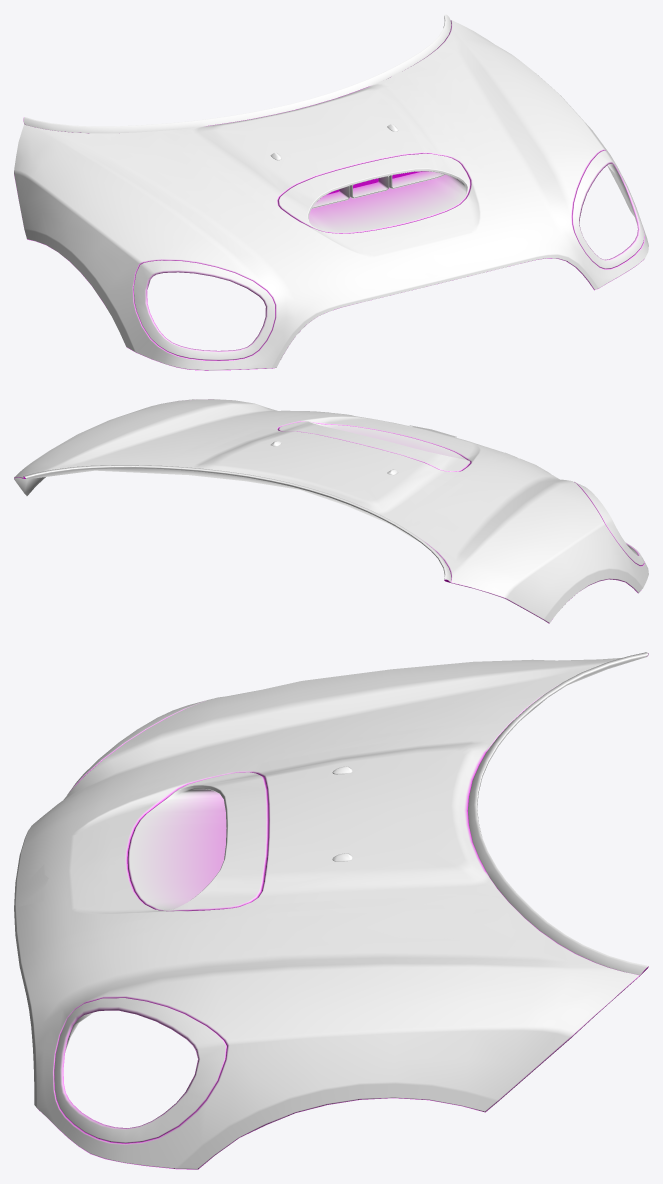
File: Car_Mini_CountrymanJCW_2017_Hood_SetF_AltA.fbx
The picture shows the model from 3 angles, top to bottom: view 1: azimuth 30°, elevation 25°; view 2: azimuth 150°, elevation 25°; view 3: azimuth 270°, elevation 25°; orthographic projection. The views are drawn at different scales.
Visible parts, largest first — view 1: Hood 6; view 2: Hood 6; view 3: Hood 6.
Boxes of the visible parts, x1,y1,x2,y2 form: Hood 6: (14, 14, 648, 370); Hood 6: (14, 399, 648, 623); Hood 6: (14, 652, 648, 1169).
Bounding box in the file's own units: 1.78 × 0.3896 × 1.23.
